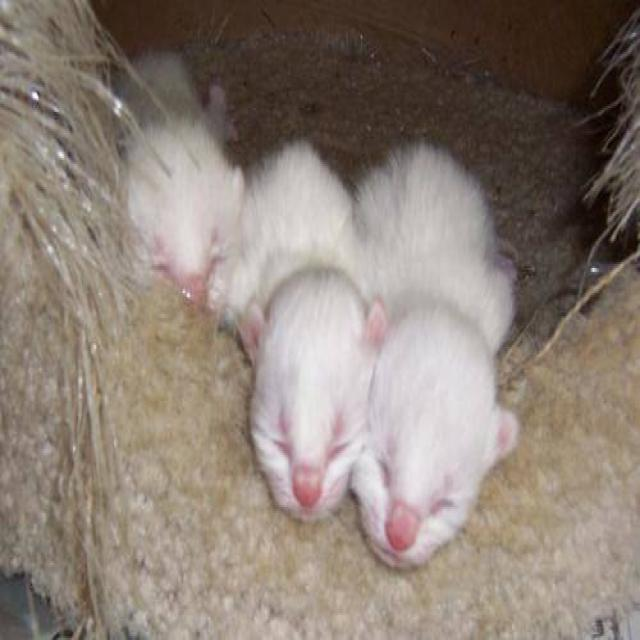cat: (339, 122, 525, 582), (212, 122, 391, 529), (109, 49, 244, 308)
